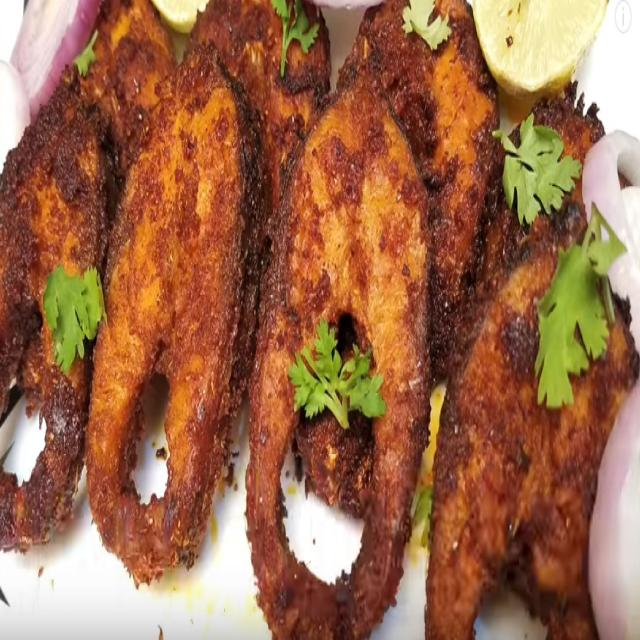FISH FRY: (0, 0, 636, 639), (91, 54, 96, 61)
